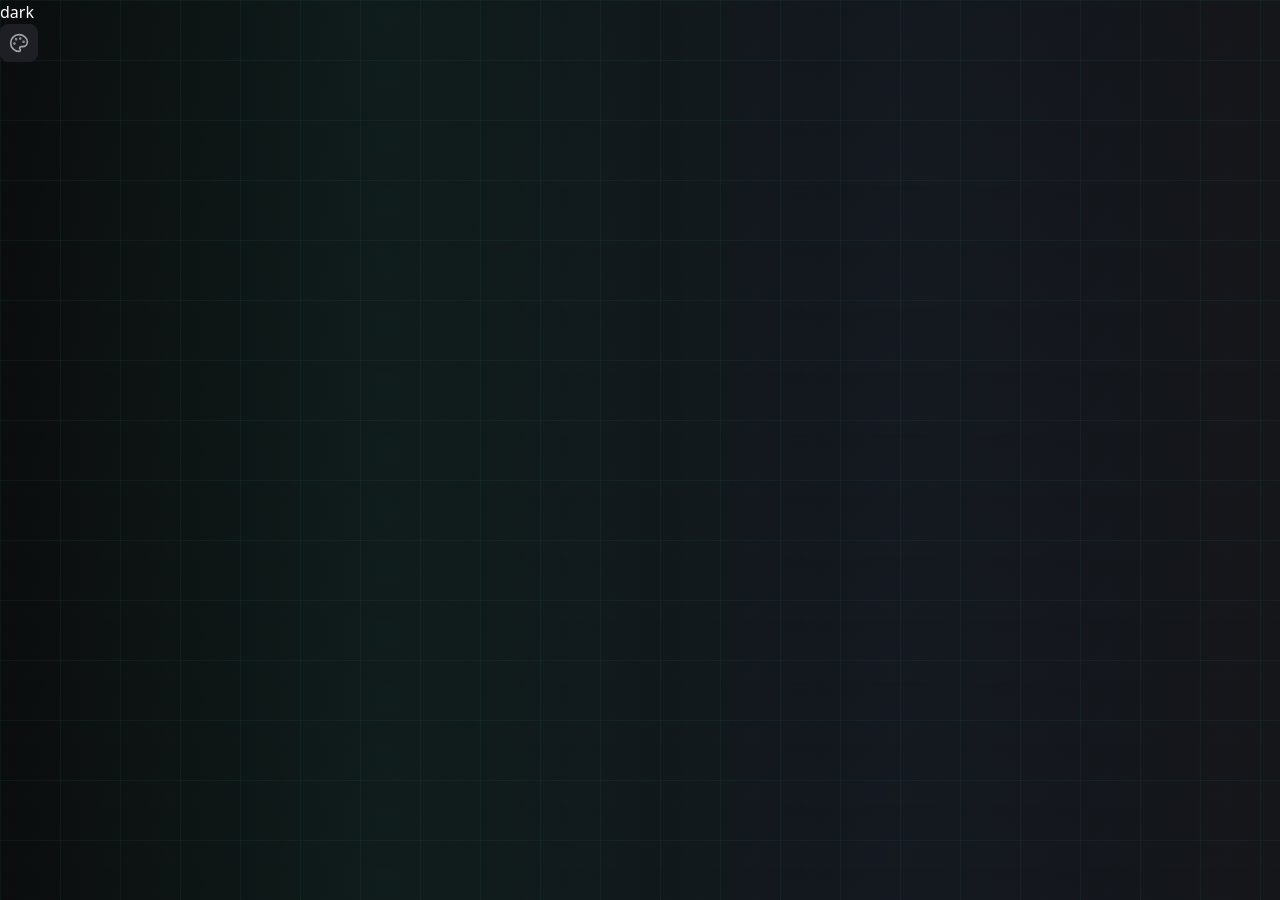
ThemeSwitcher › changes theme when option clicked
Click the button named "toggle theme switcher" at (19, 43), box [0, 24, 38, 62]
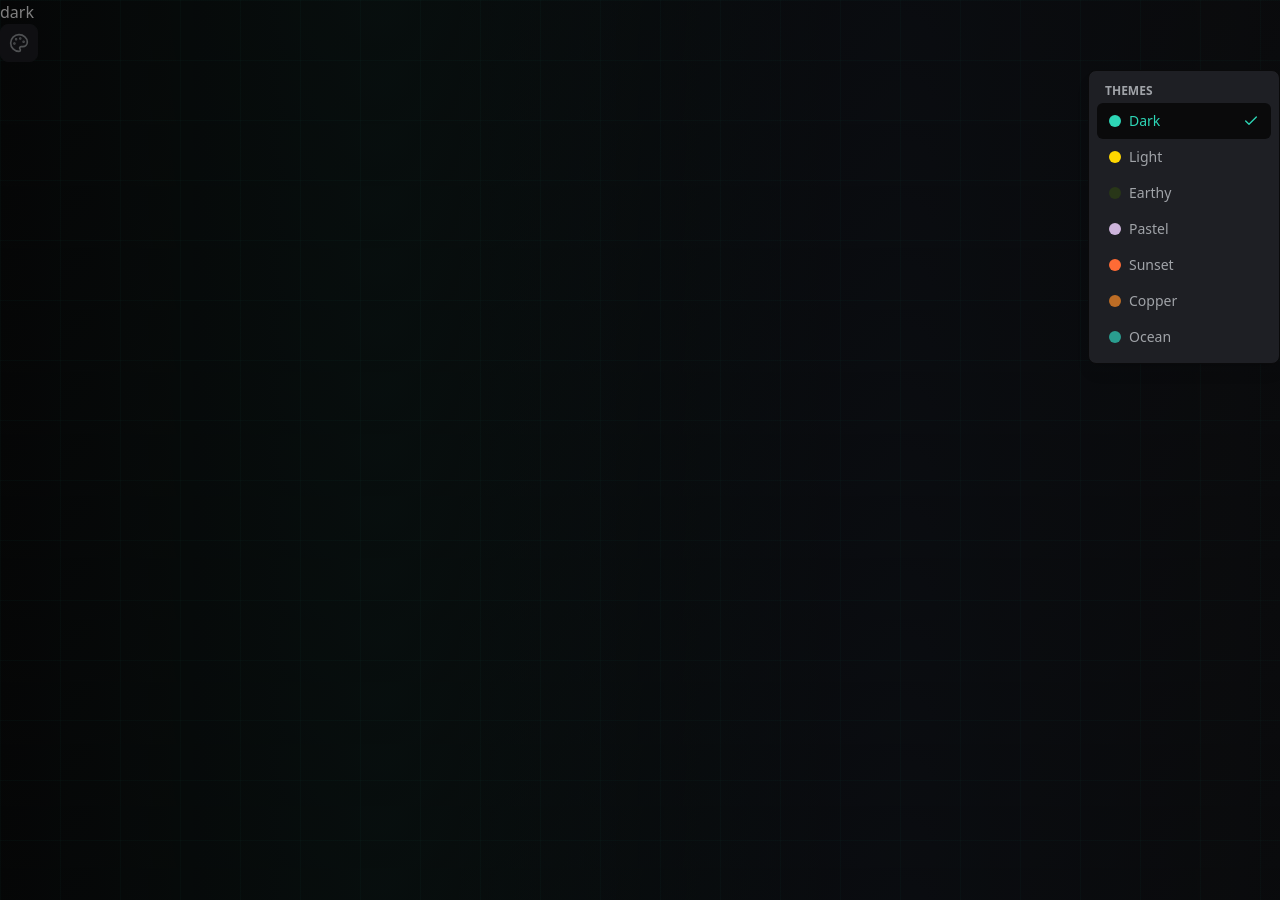
Click the button "Light" at (1184, 157), box [1097, 139, 1271, 175]
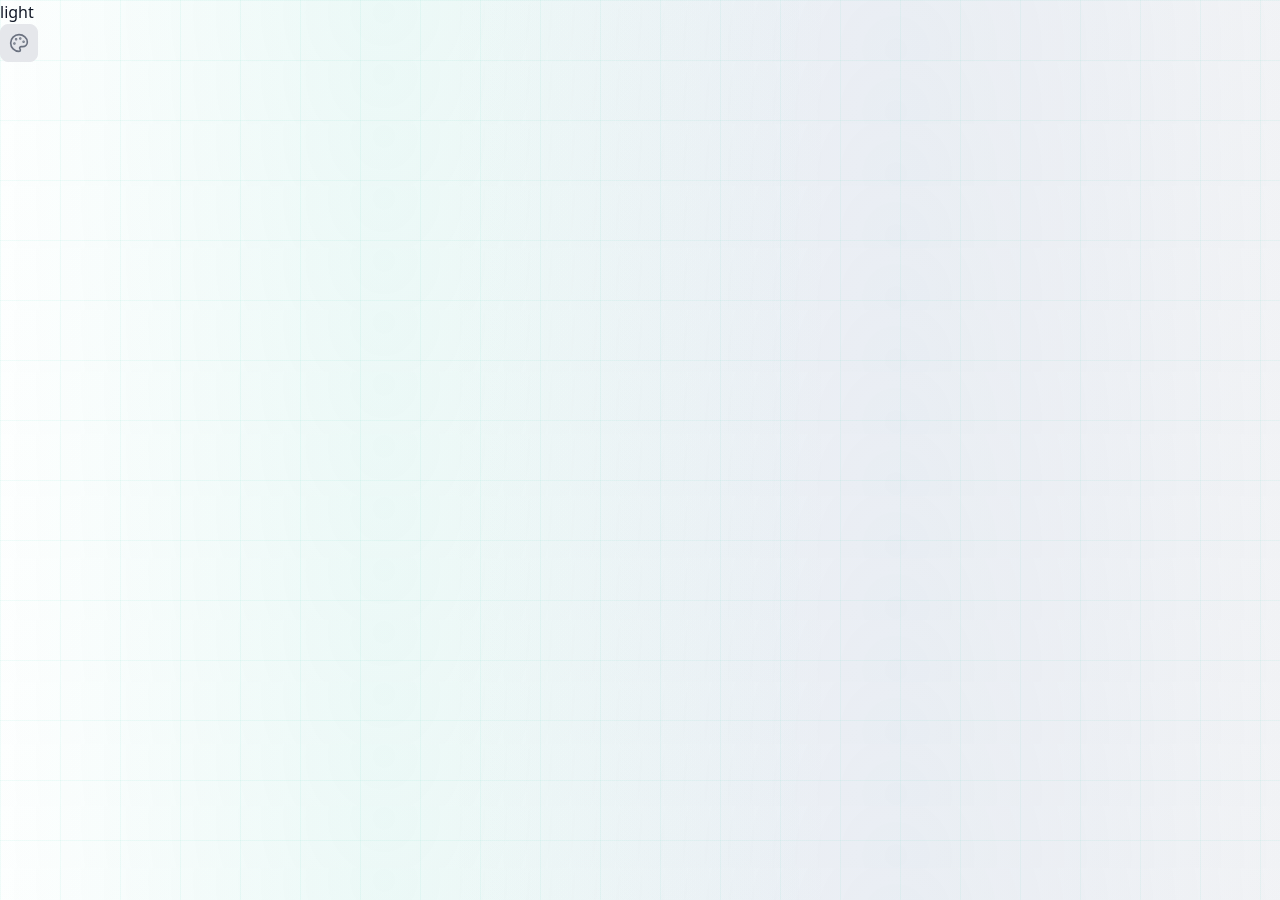
Expected: the text with test id "current-theme" reads "light", [0, 1, 34, 23]
